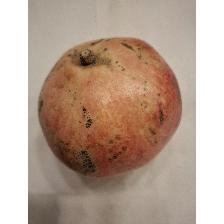Granatapfel: (36, 34, 184, 182)
